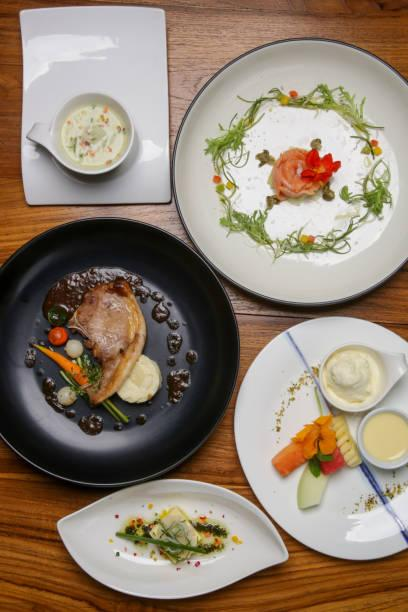Braised Crucian Carp: (1, 219, 239, 484), (171, 38, 407, 302), (233, 315, 406, 560), (55, 477, 286, 599)
